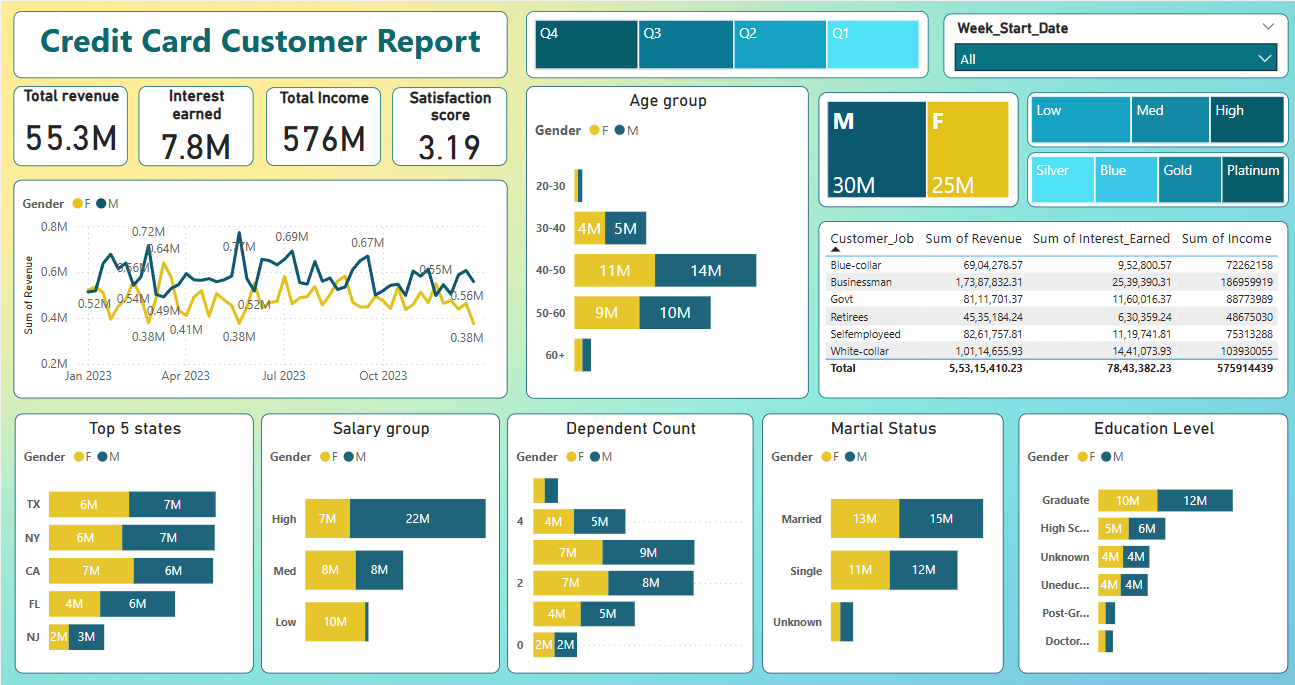

Layout of this report page (visuals, bound fields, positions):
{"tool":"powerbi","page":{"name":"Page 3","canvas":[1280,720],"ordinal":1},"visuals":[{"type":"treemap","fields":{"Group":["credit_card.Qtr"],"Values":["Avg(credit_card.Client_Num)"]},"box":[518.5,9.9,397.5,66.7],"z":0},{"type":"slicer","fields":{"Values":["credit_card.Week_Start_Date"]},"box":[930.9,12.3,340.7,64.2],"z":1000},{"type":"treemap","fields":{"Values":["CountNonNull(credit_card.Client_Num)"],"Group":["customer.IncomeGroup"]},"box":[1013.6,90.1,258,54.3],"z":2000},{"type":"treemap","fields":{"Values":["Avg(credit_card.Client_Num)"],"Group":["credit_card.Card_Category"]},"box":[1013.6,149.4,258,54.3],"z":3000},{"type":"card","title":"Total revenue","fields":{"Values":["Sum(credit_card.Revenue)"]},"box":[12.5,83.3,113,79],"z":4000},{"type":"card","title":"Interest earned","fields":{"Values":["Sum(credit_card.Interest_Earned)"]},"box":[135.8,84,113.6,79],"z":5000},{"type":"card","title":"Total Income","fields":{"Values":["Sum(customer.Income)"]},"box":[261.7,85.2,113.6,77.8],"z":6000},{"type":"card","title":"Satisfaction score","fields":{"Values":["Avg(customer.Cust_Satisfaction_Score)"]},"box":[386.4,85.2,113.6,77.8],"z":7000},{"type":"textbox","box":[12.3,9.9,487.7,66.7],"z":8000},{"type":"barChart","title":"Salary group","fields":{"Y":["Sum(credit_card.Revenue)"],"Category":["customer.IncomeGroup"],"Series":["customer.Gender"]},"box":[256.8,407.4,235.8,256.8],"z":9000},{"type":"tableEx","fields":{"Values":["customer.Customer_Job","Sum(credit_card.Revenue)","Sum(credit_card.Interest_Earned)","Sum(customer.Income)"]},"box":[807.4,217.3,464.2,175.3],"z":10000},{"type":"lineChart","title":"Revenue by Week","fields":{"Y":["Sum(credit_card.Revenue)"],"Series":["customer.Gender"],"Category":["credit_card.Week_Start_Date.Variation.Date Hierarchy.Year","credit_card.Week_Start_Date.Variation.Date Hierarchy.Month","credit_card.Week_Start_Date.Variation.Date Hierarchy.Day"]},"box":[12.3,176.5,487.7,216],"z":11000},{"type":"treemap","fields":{"Group":["customer.Gender"],"Values":["Sum(credit_card.Revenue)"]},"box":[807.4,90.1,197.5,113.6],"z":12000},{"type":"barChart","title":"Age group","fields":{"Y":["Sum(credit_card.Revenue)"],"Category":["customer.AgeGroup"],"Series":["customer.Gender"]},"box":[518.5,84,279,308.6],"z":13000},{"type":"barChart","title":"Dependent Count","fields":{"Y":["Sum(credit_card.Revenue)"],"Category":["customer.Dependent_Count"],"Series":["customer.Gender"]},"box":[500,407.4,243.2,256.8],"z":14000},{"type":"barChart","title":"Education Level","fields":{"Y":["Sum(credit_card.Revenue)"],"Category":["customer.Education_Level"],"Series":["customer.Gender"]},"box":[1004.9,407.4,266.7,256.8],"z":15000},{"type":"barChart","title":"Top 5 states","fields":{"Y":["Sum(credit_card.Revenue)"],"Category":["customer.state_cd"],"Series":["customer.Gender"]},"box":[13.6,407.4,235.8,256.8],"z":16000},{"type":"barChart","title":"Martial Status","fields":{"Y":["Sum(credit_card.Revenue)"],"Category":["customer.Marital_Status"],"Series":["customer.Gender"]},"box":[751.9,407.4,238.3,256.8],"z":17000}]}

Visuals, with their boxes on the page's 1280x720 design canvas (x1, y1, x2, y2). These are canvas units, not pixel positions in the 1295x685 screenshot, which may show the page scaled, cropped or inside an application window:
treemap - credit_card.Qtr x Avg(credit_card.Client_Num): pyautogui.locateOnScreen(518, 10, 916, 77)
slicer - credit_card.Week_Start_Date: pyautogui.locateOnScreen(931, 12, 1272, 76)
treemap - CountNonNull(credit_card.Client_Num) x customer.IncomeGroup: pyautogui.locateOnScreen(1014, 90, 1272, 144)
treemap - Avg(credit_card.Client_Num) x credit_card.Card_Category: pyautogui.locateOnScreen(1014, 149, 1272, 204)
"Total revenue" card: pyautogui.locateOnScreen(12, 83, 126, 162)
"Interest earned" card: pyautogui.locateOnScreen(136, 84, 249, 163)
"Total Income" card: pyautogui.locateOnScreen(262, 85, 375, 163)
"Satisfaction score" card: pyautogui.locateOnScreen(386, 85, 500, 163)
textbox: pyautogui.locateOnScreen(12, 10, 500, 77)
"Salary group" barChart: pyautogui.locateOnScreen(257, 407, 493, 664)
tableEx - customer.Customer_Job x Sum(credit_card.Revenue): pyautogui.locateOnScreen(807, 217, 1272, 393)
"Revenue by Week" lineChart: pyautogui.locateOnScreen(12, 176, 500, 392)
treemap - customer.Gender x Sum(credit_card.Revenue): pyautogui.locateOnScreen(807, 90, 1005, 204)
"Age group" barChart: pyautogui.locateOnScreen(518, 84, 798, 393)
"Dependent Count" barChart: pyautogui.locateOnScreen(500, 407, 743, 664)
"Education Level" barChart: pyautogui.locateOnScreen(1005, 407, 1272, 664)
"Top 5 states" barChart: pyautogui.locateOnScreen(14, 407, 249, 664)
"Martial Status" barChart: pyautogui.locateOnScreen(752, 407, 990, 664)
